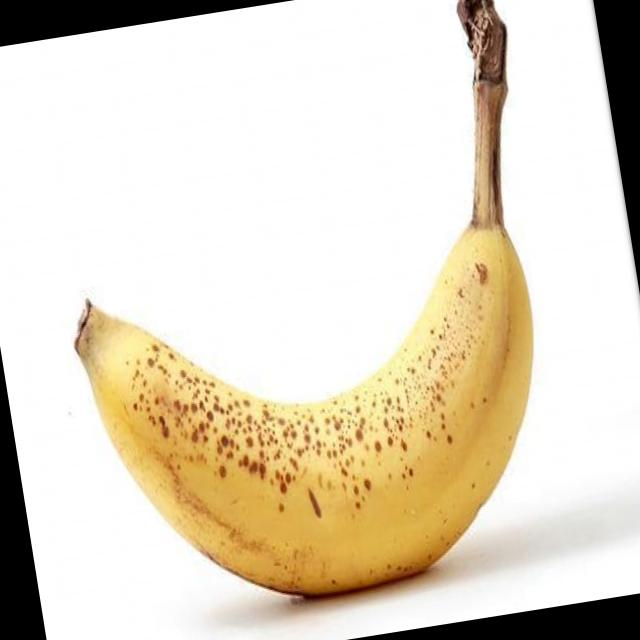banana: (72, 205, 586, 640)
